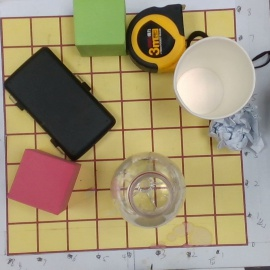bottle: (109, 153, 187, 227)
cup: (173, 36, 255, 120)
